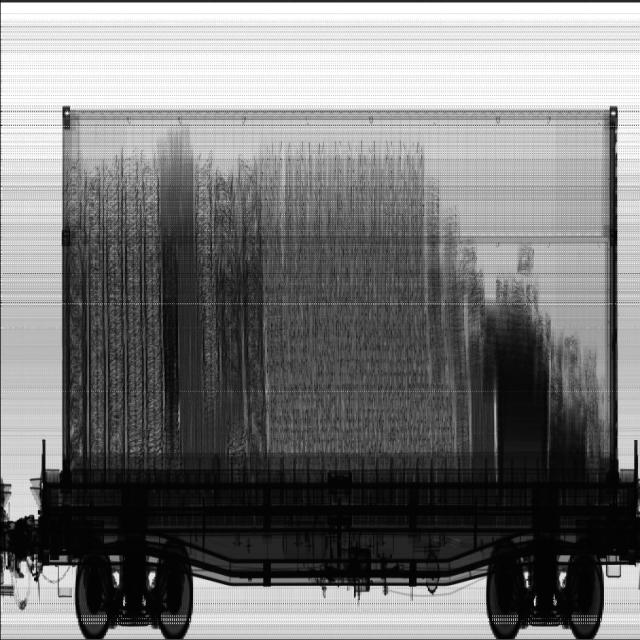table ware: (86, 150, 163, 468)
toys: (262, 150, 484, 470)
